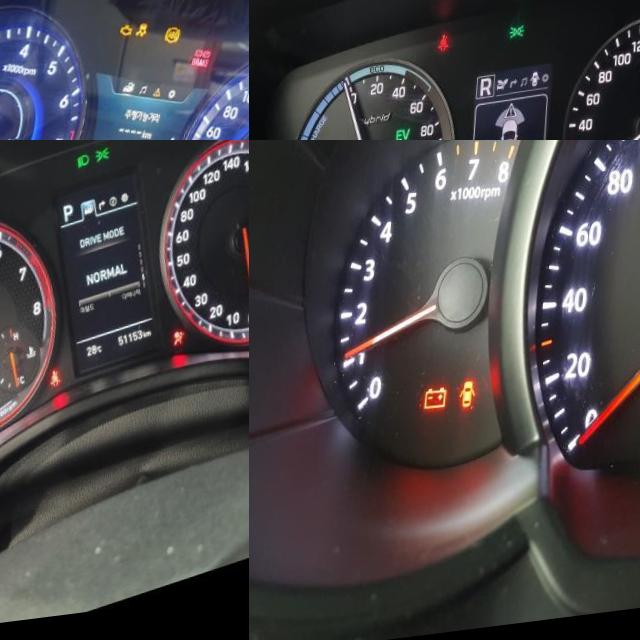Low beam: (77, 160, 93, 176)
SideLamp: (96, 155, 113, 172), (512, 33, 529, 48)
